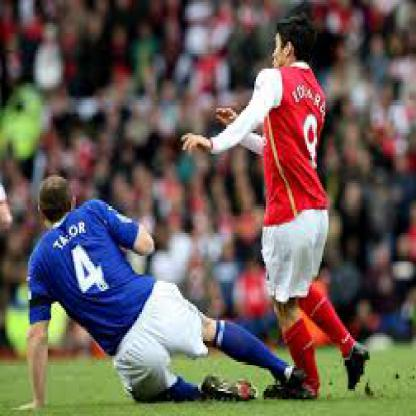Fall_Down: (12, 174, 300, 410)
